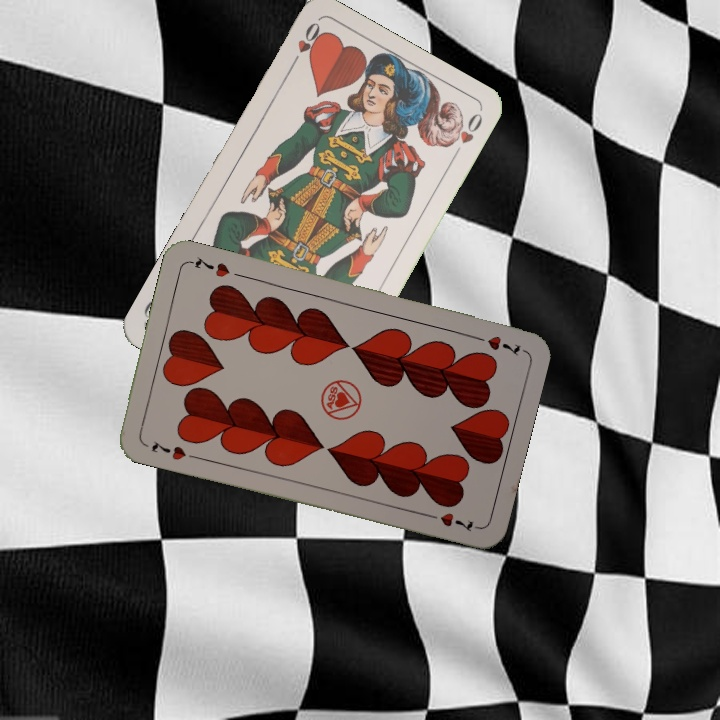H7: (467, 331, 523, 358), (147, 437, 189, 463)
HO: (286, 18, 325, 72)
